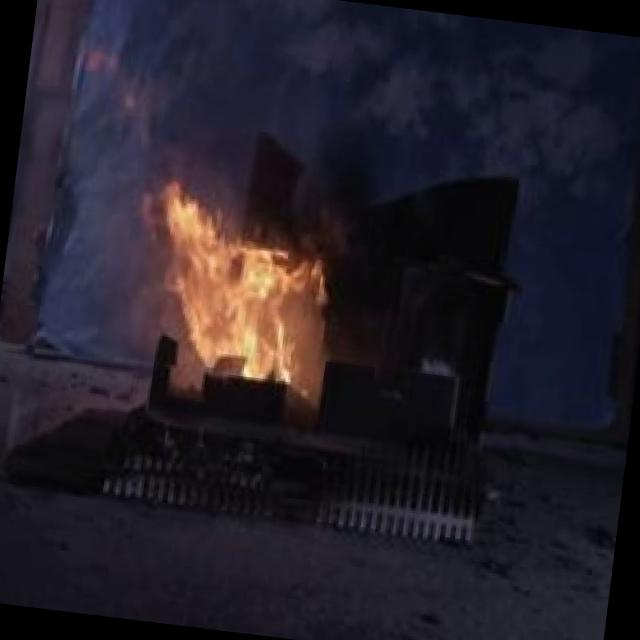fire: (118, 156, 364, 409)
